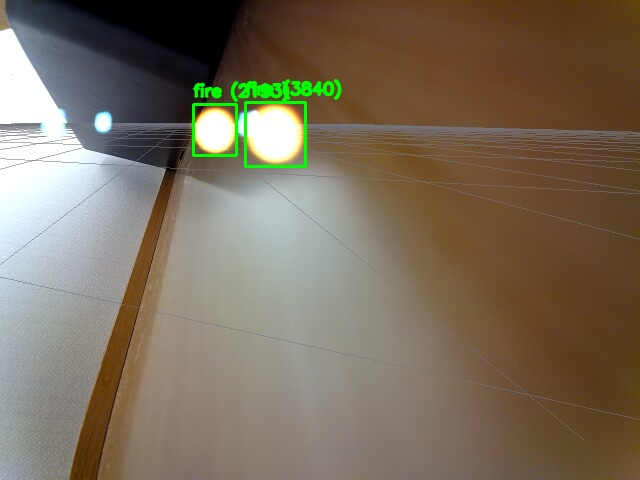fire: (245, 102, 305, 166), (193, 104, 236, 155)
